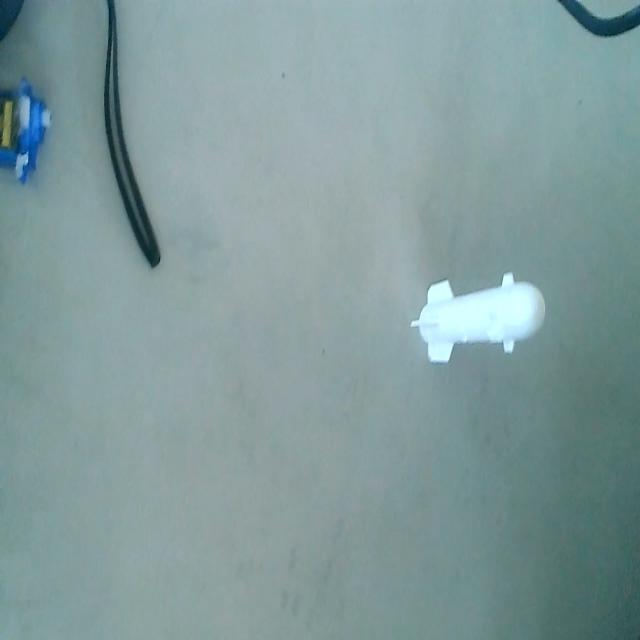Rocket: (406, 269, 550, 368)
